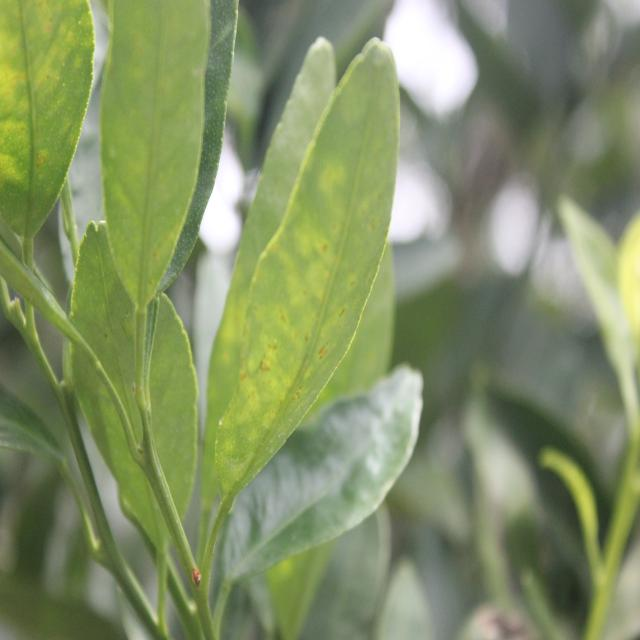canker: (227, 182, 383, 486), (0, 2, 93, 254)
